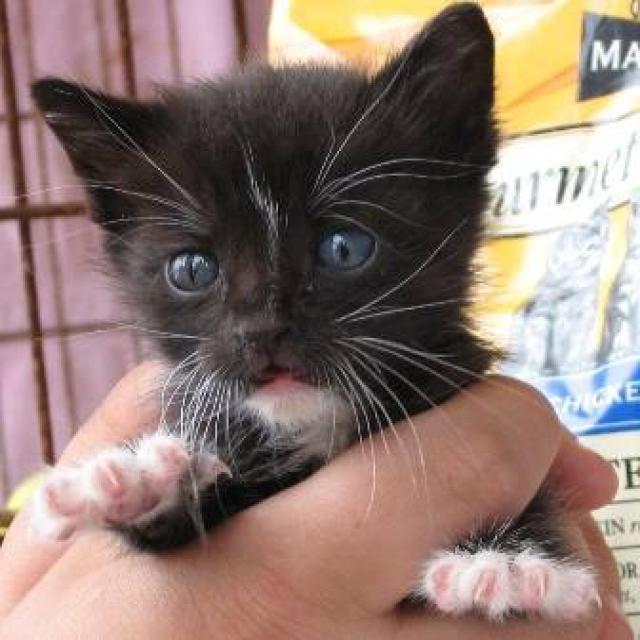cat: (6, 0, 606, 625)
